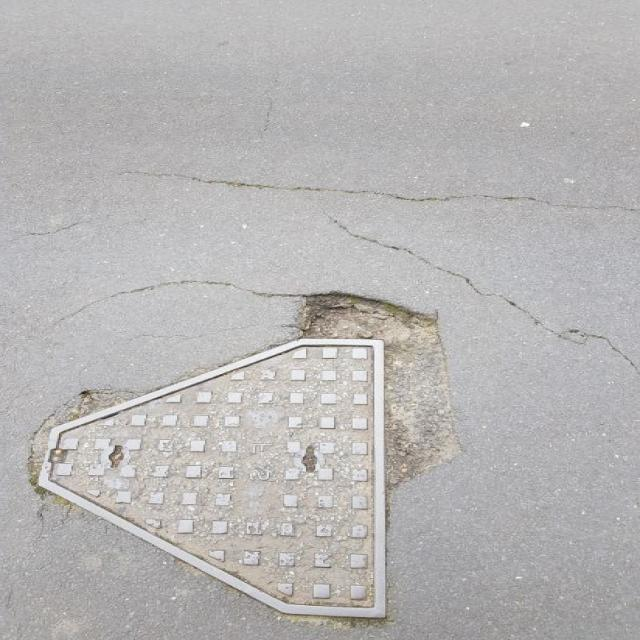pothole: (298, 286, 474, 490)
